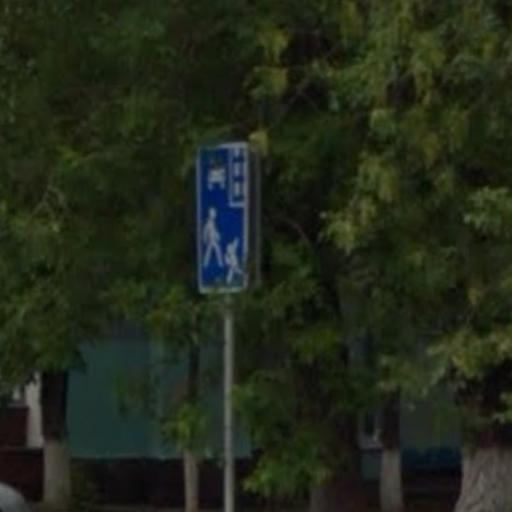traffic_sign: (193, 140, 254, 296)
